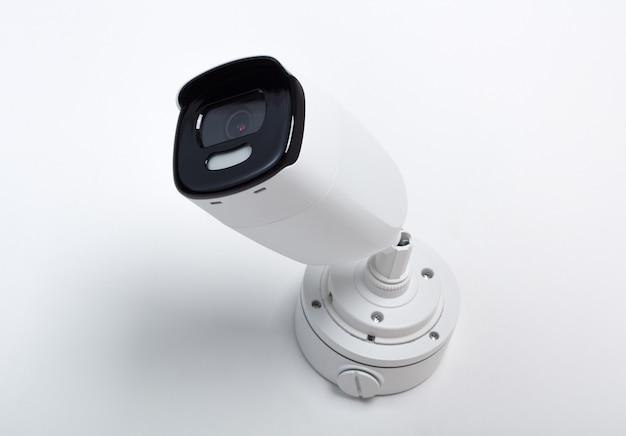camera: (153, 24, 418, 279)
